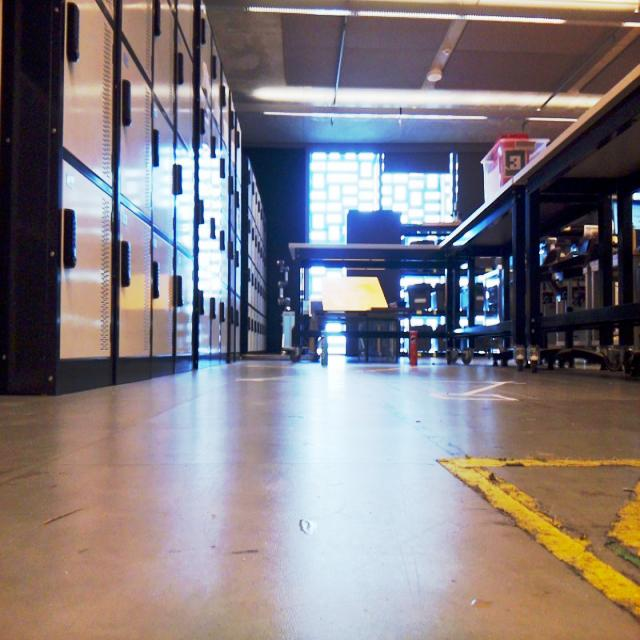greenpringles: (313, 328, 333, 369)
redpringles: (404, 327, 424, 376)
